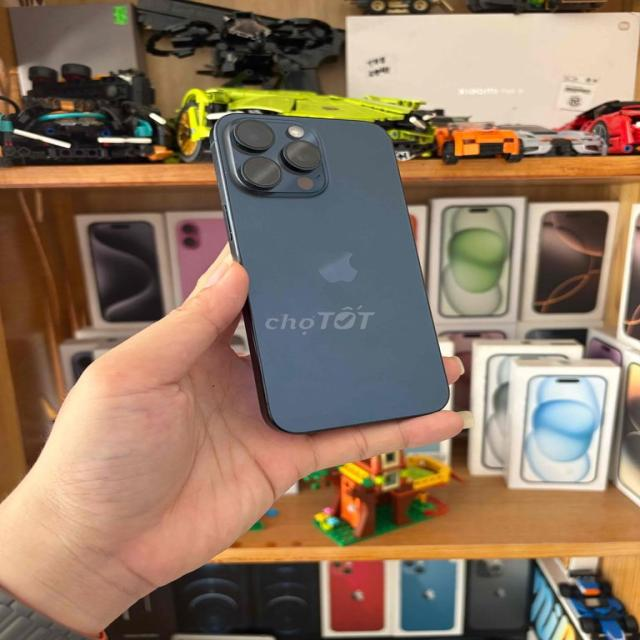gen_15: (193, 98, 467, 443)
